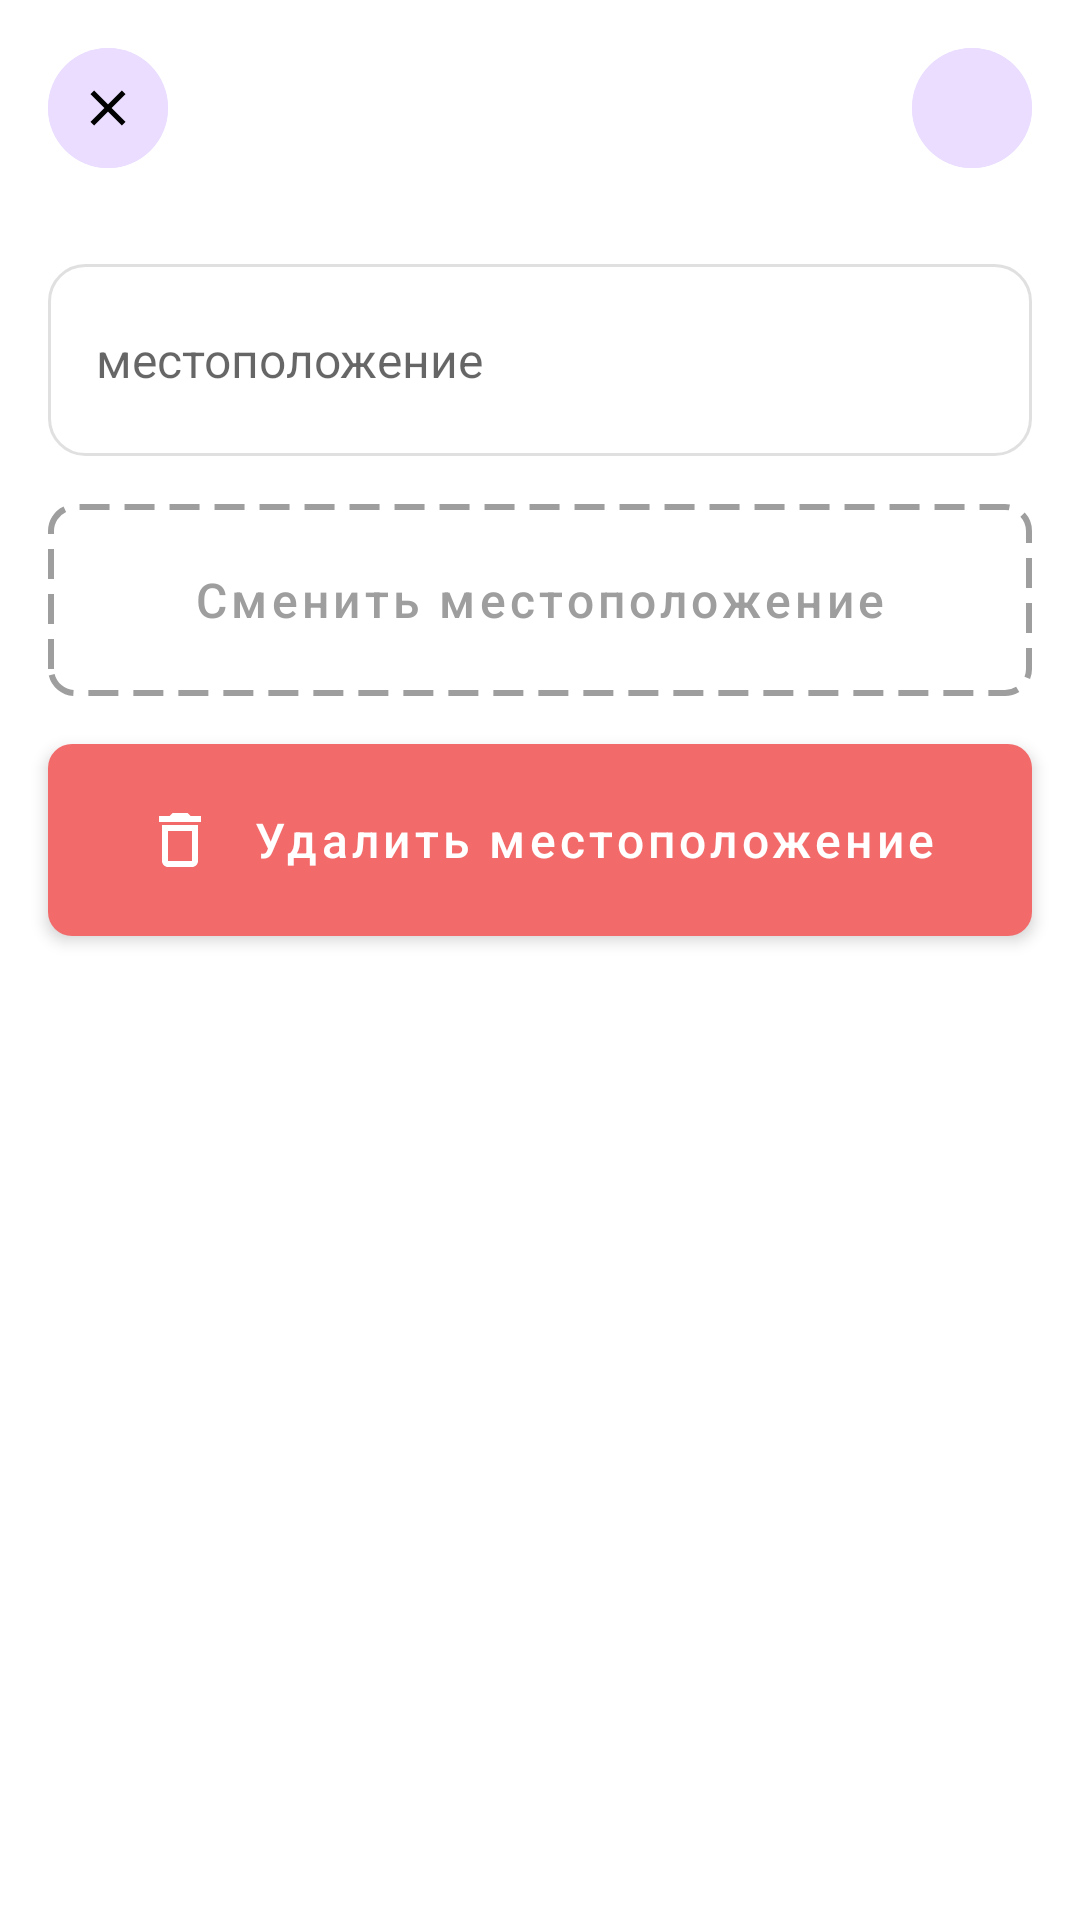

Point at icon controls on the screen. Image size 1080*1920, points as point (x, y).
close: point (108, 108)
